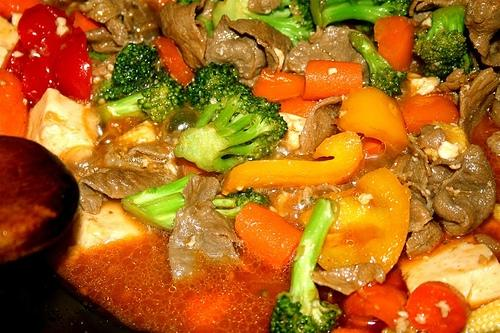bell pepper: (296, 166, 410, 274), (221, 130, 364, 196), (338, 86, 408, 148), (343, 280, 408, 330), (22, 31, 62, 104), (374, 15, 420, 71), (149, 36, 195, 91), (300, 60, 363, 100), (398, 95, 460, 133)
broccoli: (173, 62, 289, 172), (268, 197, 341, 333), (121, 174, 270, 230), (102, 46, 192, 122), (212, 0, 316, 47), (412, 4, 475, 81), (348, 32, 406, 97), (310, 0, 411, 29)
carrot: (361, 94, 460, 154), (234, 202, 304, 268), (406, 281, 471, 333), (374, 15, 421, 71), (302, 60, 363, 100), (150, 36, 195, 86), (0, 68, 30, 139), (184, 288, 233, 330), (252, 67, 305, 103), (72, 10, 110, 34), (279, 96, 319, 118), (378, 264, 409, 292), (473, 219, 497, 241), (150, 0, 178, 17), (332, 328, 363, 333)
corn: (461, 298, 500, 333), (114, 118, 156, 143)
tomato: (331, 264, 410, 333), (405, 280, 470, 333), (53, 31, 93, 102), (17, 6, 56, 52), (22, 56, 48, 104), (3, 38, 30, 80)
